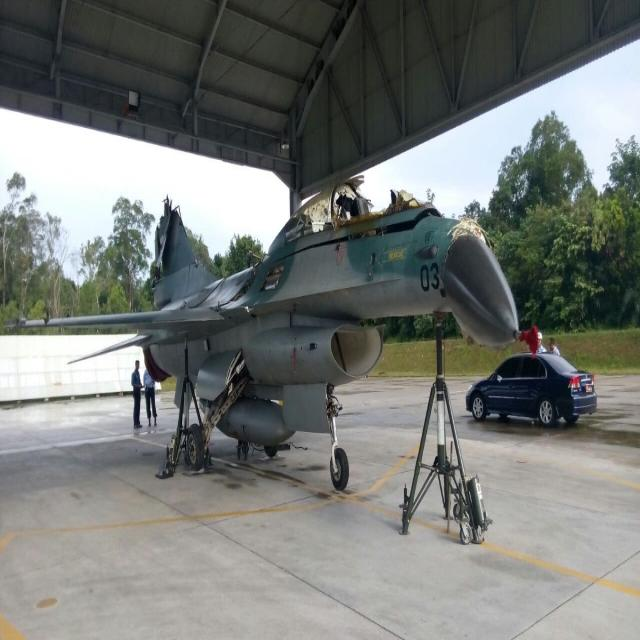MIL_Plane: (2, 174, 538, 492)
